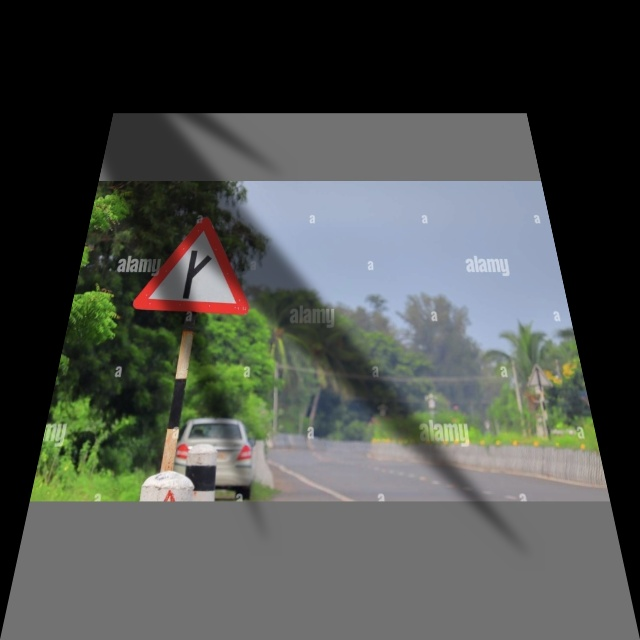Y_Intersection: (133, 213, 251, 316)
